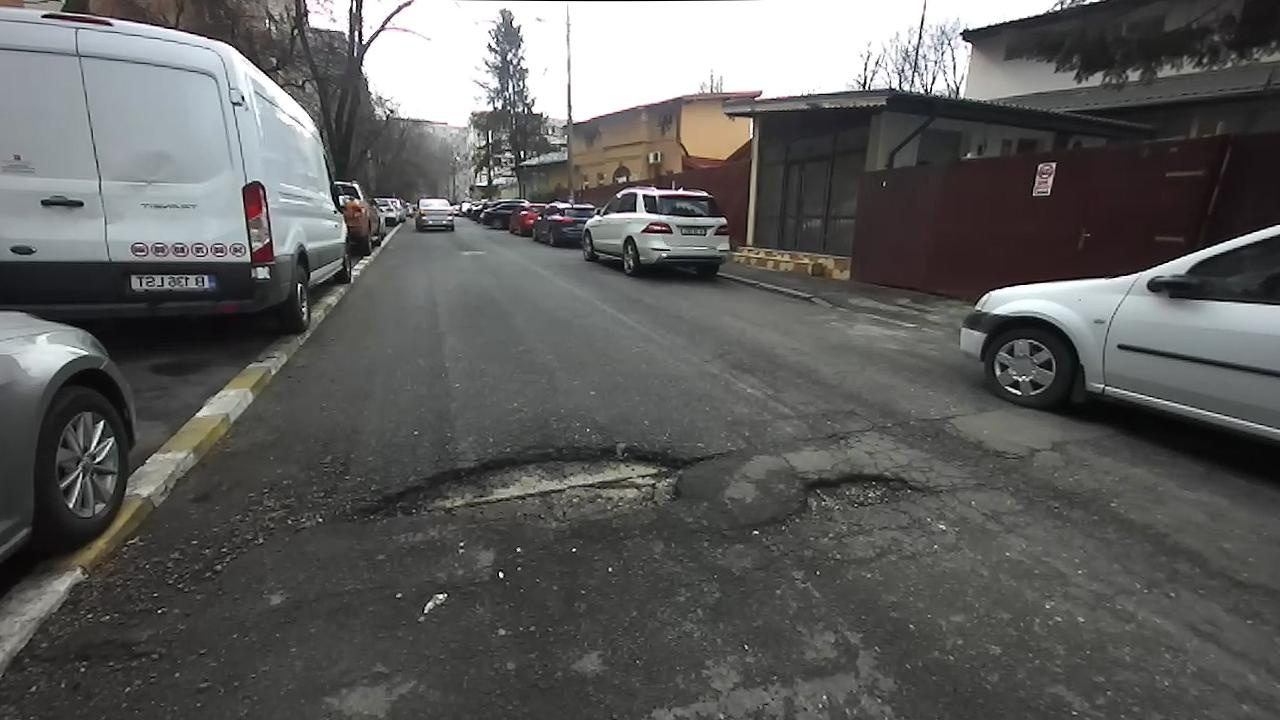pothole: (328, 437, 716, 532), (770, 461, 947, 530)
